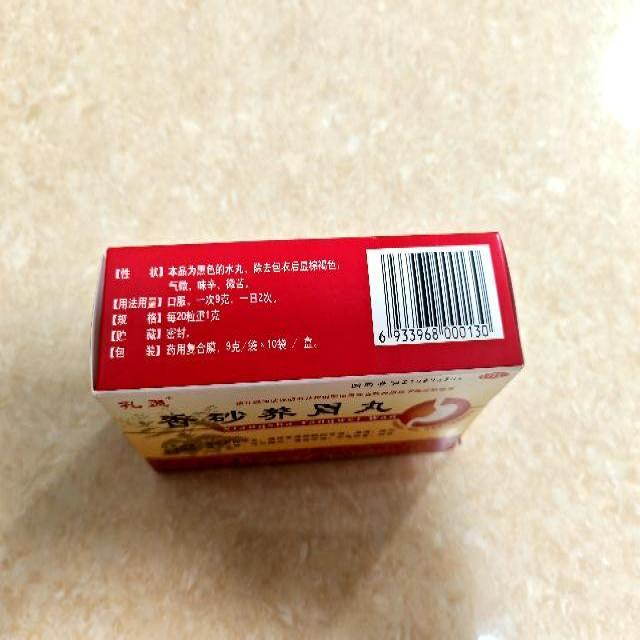box: (89, 230, 524, 474)
